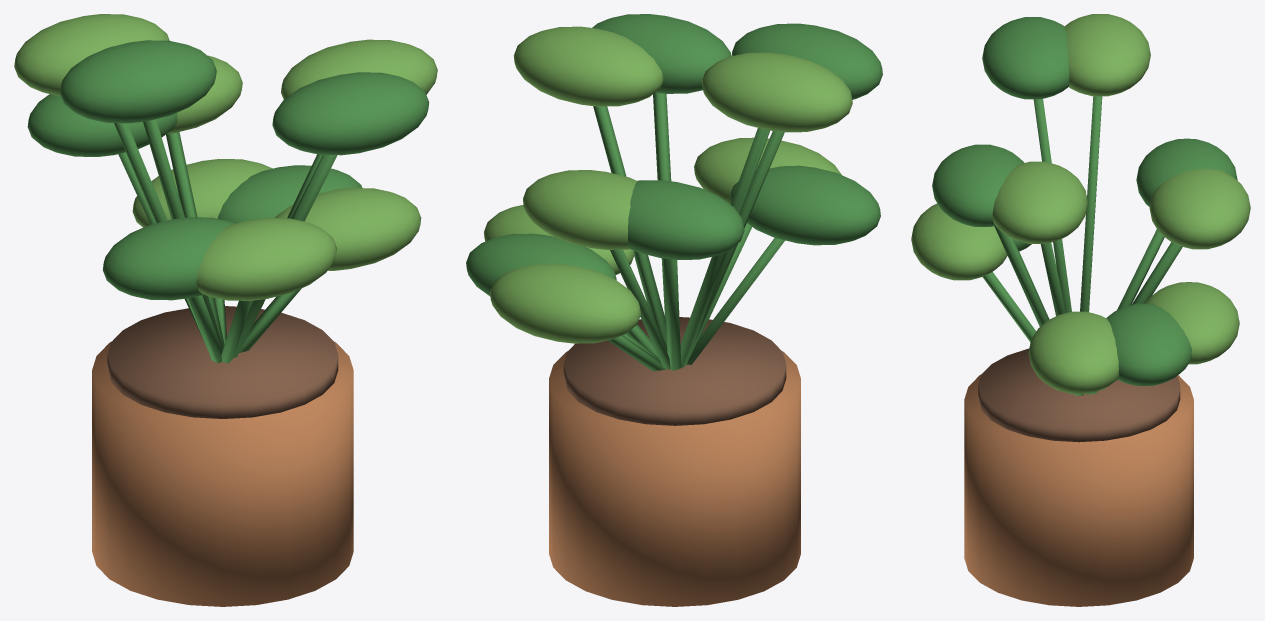
Rendered from plant.glb.
3 views of the same model, side by side, from view 1: azimuth 30°, elevation 25°; view 2: azimuth 150°, elevation 25°; view 3: azimuth 270°, elevation 25° (orthographic). The views are drawn at different scales.
Visible parts, largest first — view 1: root_copper, root_green, root_green2, root_wood; view 2: root_copper, root_green, root_green2, root_wood; view 3: root_copper, root_green2, root_green, root_wood.
Part boxes in pixels (left/top/right/bottom): root_copper: left=92, top=341, right=353, bottom=606; root_green: left=27, top=40, right=429, bottom=363; root_green2: left=14, top=14, right=437, bottom=300; root_wood: left=107, top=306, right=338, bottom=418; root_copper: left=549, top=351, right=800, bottom=606; root_green: left=466, top=14, right=882, bottom=371; root_green2: left=484, top=26, right=852, bottom=343; root_wood: left=563, top=317, right=786, bottom=425; root_copper: left=964, top=374, right=1193, bottom=606; root_green2: left=911, top=14, right=1250, bottom=393; root_green: left=932, top=17, right=1237, bottom=395; root_wood: left=978, top=348, right=1180, bottom=442.
Bounding box in the file's own units: 0.5772 × 0.785 × 0.5031.
